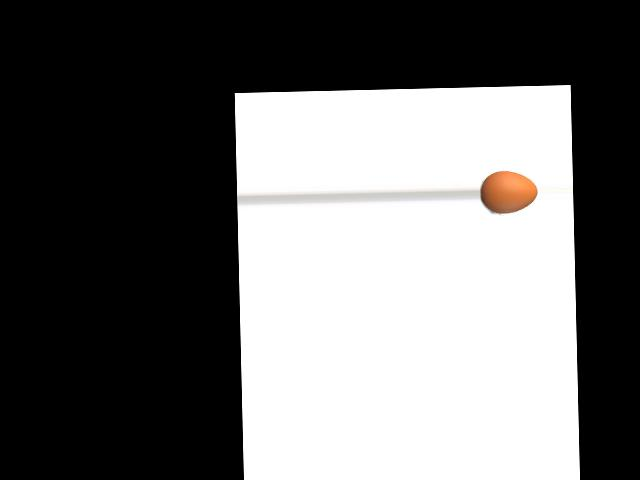egg: (480, 170, 537, 214)
